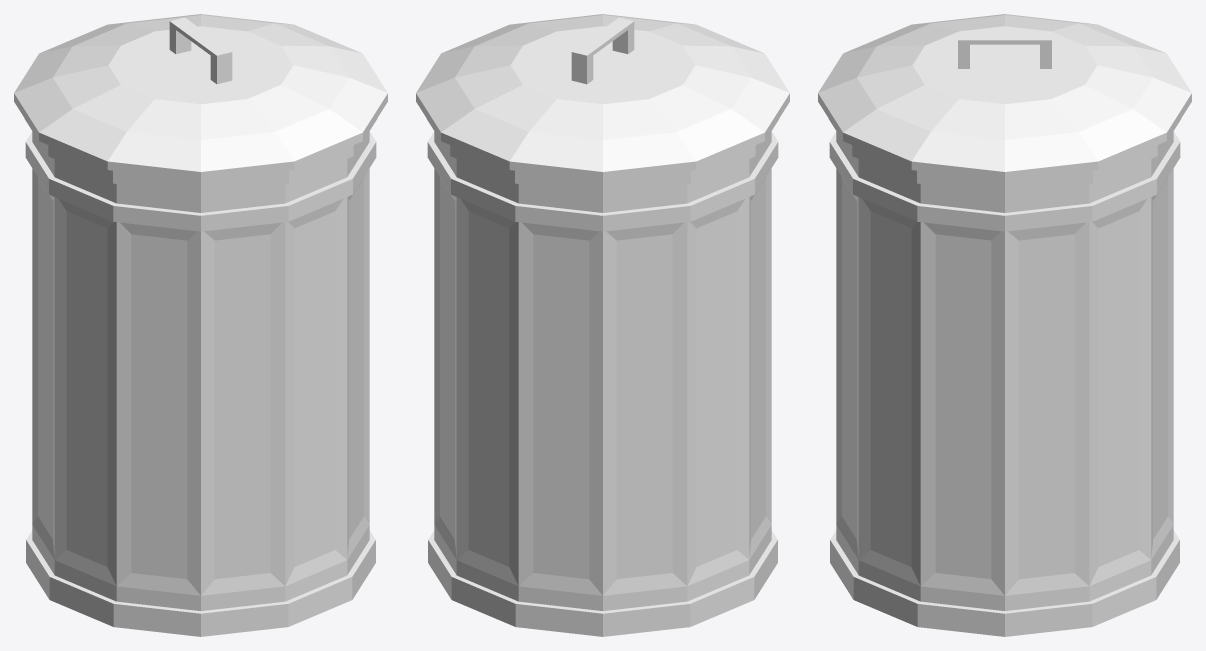
File: Prop_Trashcan_01.glb
3 views of the same model, side by side, from view 1: azimuth 30°, elevation 25°; view 2: azimuth 150°, elevation 25°; view 3: azimuth 270°, elevation 25° (orthographic).
Visible parts, largest first — view 1: Prop_Trashcan_01, Prop_Trashcan_Top_01; view 2: Prop_Trashcan_01, Prop_Trashcan_Top_01; view 3: Prop_Trashcan_01, Prop_Trashcan_Top_01.
Boxes of the visible parts, x1,y1,x2,y2 form: Prop_Trashcan_01: [25, 119, 376, 636]; Prop_Trashcan_Top_01: [14, 14, 387, 180]; Prop_Trashcan_01: [427, 119, 778, 636]; Prop_Trashcan_Top_01: [416, 14, 789, 180]; Prop_Trashcan_01: [829, 119, 1180, 636]; Prop_Trashcan_Top_01: [818, 14, 1191, 180].
Size of the model in its own units: 0.5471 by 0.8499 by 0.5471.
Materials: 1 (1 with a texture image).
